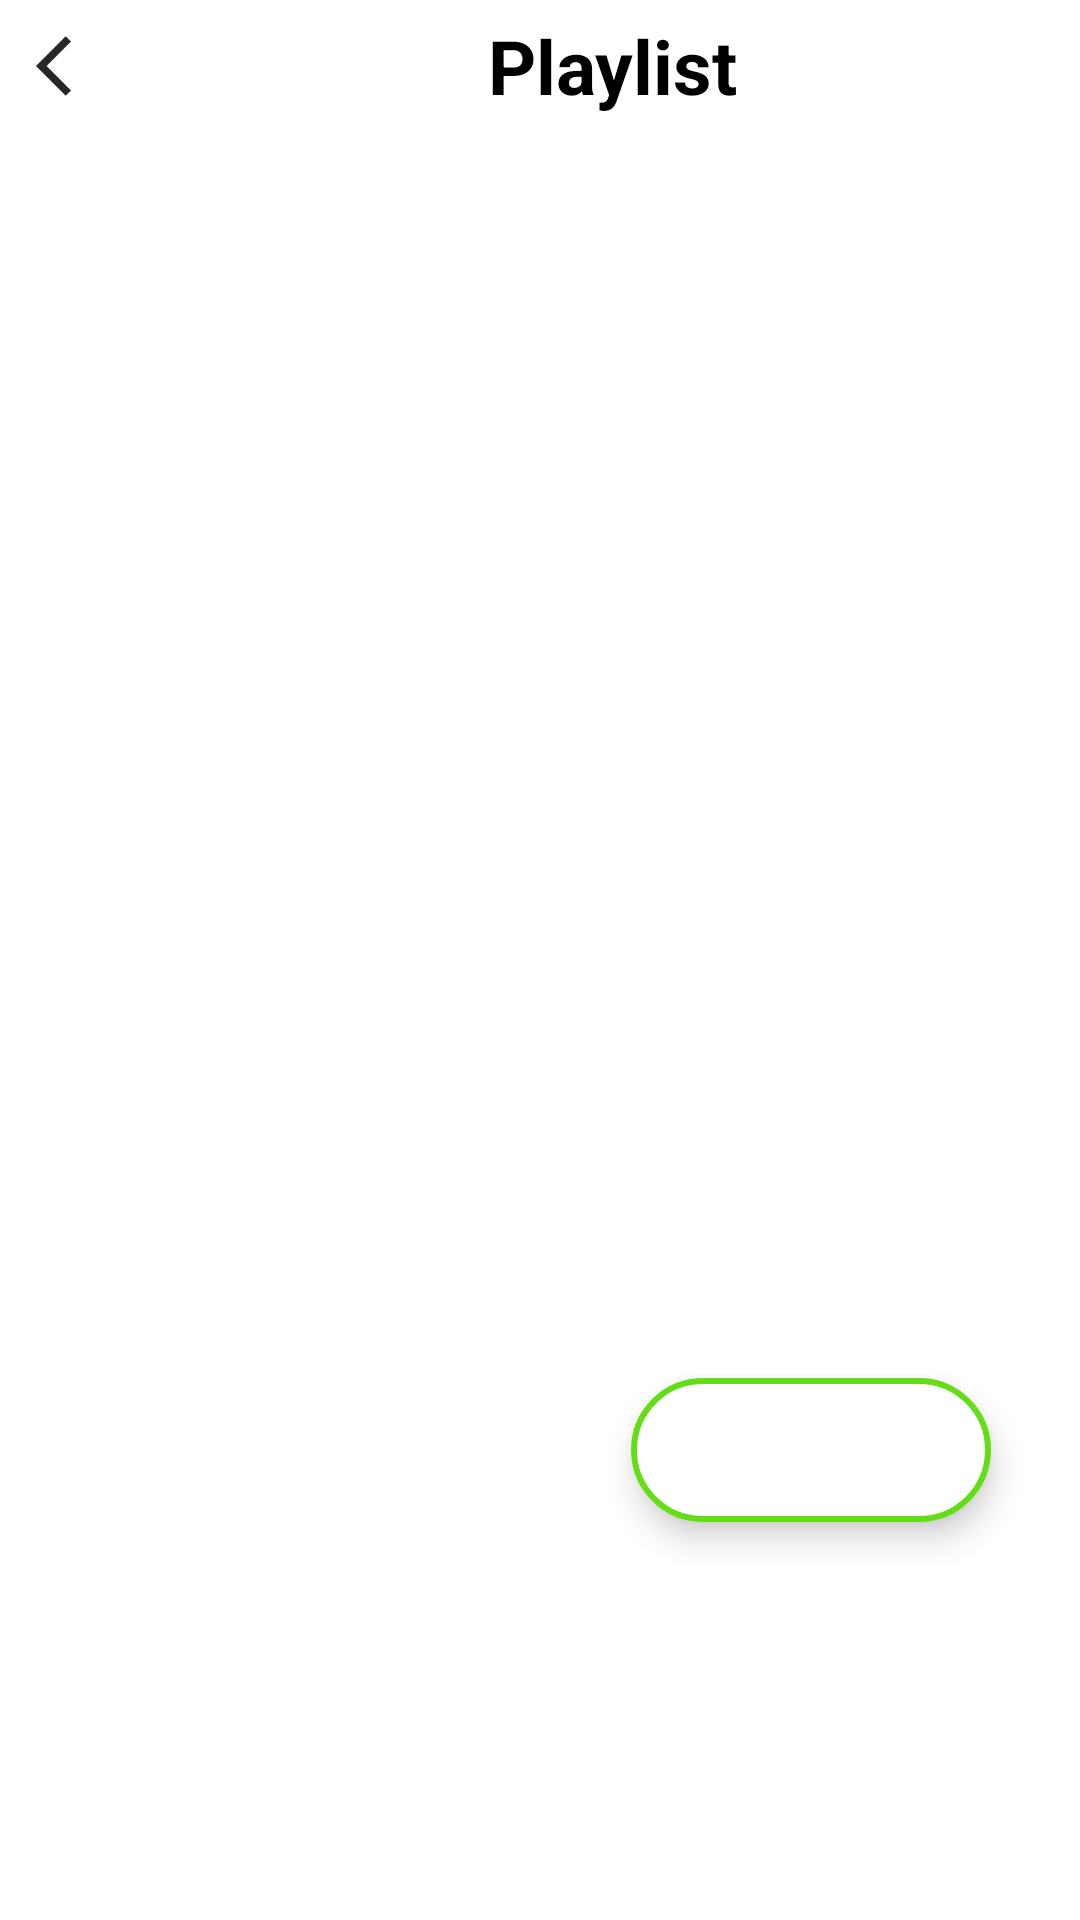

Locate icon controls on the screen. Image size 1080px x 1920px, boxes as bbox(x1, y1, x2, y2).
back: bbox(36, 36, 71, 96)
